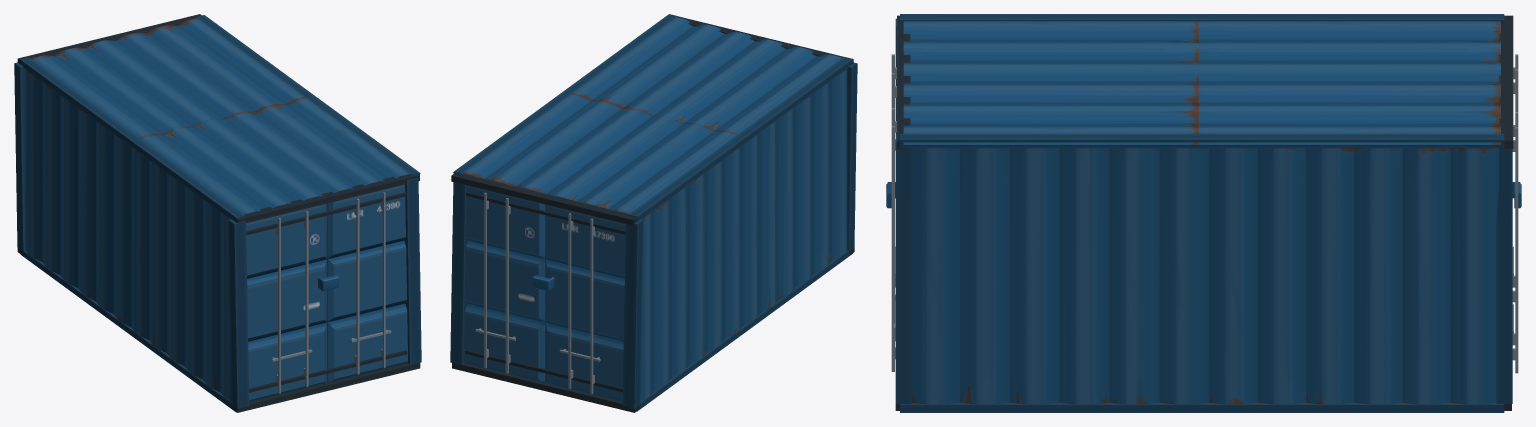
The model's file is ShippingCrate_Metal.fbx.
3 renders of one model, left to right at view 1: azimuth 30°, elevation 25°; view 2: azimuth 150°, elevation 25°; view 3: azimuth 270°, elevation 25°, orthographic. The views are drawn at different scales.
Visible parts, largest first — view 1: EndPanel1, SidePanel2, SidePanel1, SidePanel6, SidePanel5, beam9, beam7, beam1, beam2, beam6, beam10, beam8 (+8 smaller); view 2: EndPanel2, SidePanel1, SidePanel2, SidePanel6, SidePanel5, beam6, beam7, beam3, beam4, beam2, beam9, beam8 (+8 smaller); view 3: SidePanel4, SidePanel3, SidePanel6, SidePanel5, beam2, pCube96, beam1, beam7, beam3, beam4, beam10, MetalPole7 (+1 smaller).
Boxes of the visible parts, <box> form: EndPanel1: <box>246,184,407,401</box>; SidePanel2: <box>25,70,131,326</box>; SidePanel1: <box>131,147,231,402</box>; SidePanel6: <box>31,18,304,137</box>; SidePanel5: <box>139,97,420,214</box>; beam9: <box>228,219,249,408</box>; beam7: <box>20,57,244,221</box>; beam1: <box>404,177,421,364</box>; beam2: <box>196,15,419,175</box>; beam6: <box>14,62,25,251</box>; beam10: <box>236,174,419,223</box>; beam8: <box>20,250,236,412</box>; EndPanel2: <box>464,185,625,401</box>; SidePanel1: <box>743,69,847,325</box>; SidePanel2: <box>640,145,742,401</box>; SidePanel6: <box>453,94,736,213</box>; SidePanel5: <box>571,17,841,134</box>; beam6: <box>622,219,643,408</box>; beam7: <box>628,57,852,221</box>; beam3: <box>450,182,467,365</box>; beam4: <box>451,173,636,225</box>; beam2: <box>453,14,677,174</box>; beam9: <box>847,62,857,251</box>; beam8: <box>637,250,852,411</box>; SidePanel4: <box>910,148,1209,404</box>; SidePanel3: <box>1209,148,1498,404</box>; SidePanel6: <box>1199,21,1500,144</box>; SidePanel5: <box>903,21,1198,144</box>; beam2: <box>900,134,1504,148</box>; pCube96: <box>900,403,1504,412</box>; beam1: <box>895,134,911,403</box>; beam7: <box>900,14,1504,21</box>; beam3: <box>1496,148,1512,403</box>; beam4: <box>1499,15,1513,148</box>; beam10: <box>897,15,910,148</box>; MetalPole7: <box>1512,127,1518,373</box>.
Size of the model in its own units: 33.89 by 33.31 by 70.17.
